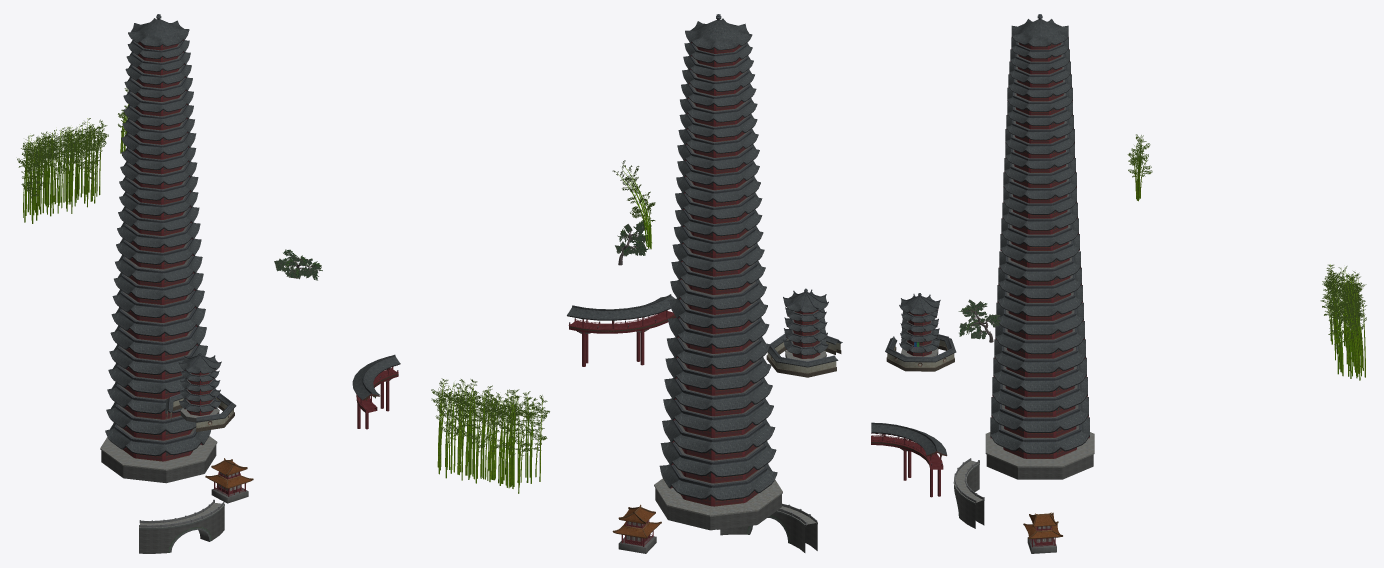
File: ObjectsRip2.obj
3 views of the same model, side by side, from view 1: azimuth 30°, elevation 25°; view 2: azimuth 150°, elevation 25°; view 3: azimuth 270°, elevation 25° (orthographic). The views are drawn at different scales.
Size of the model in its own units: 135 by 268 by 243.
